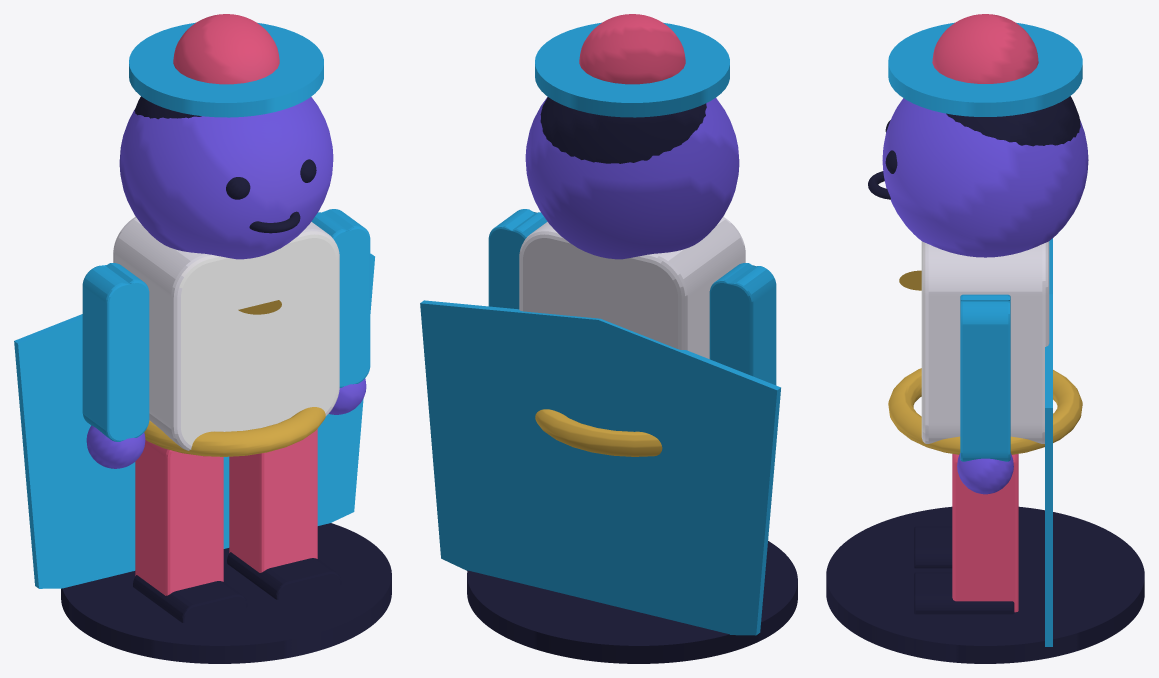
The model's file is 0719_《史记》_淮阴侯韩信.glb.
3 views of the same model, side by side, from view 1: azimuth 30°, elevation 25°; view 2: azimuth 150°, elevation 25°; view 3: azimuth 270°, elevation 25° (orthographic).
Parts seen in each view (by area): view 1: card_0719; view 2: card_0719; view 3: card_0719.
Boxes of the visible parts, x1,y1,x2,y2 form: card_0719: [14, 14, 391, 663]; card_0719: [420, 14, 797, 663]; card_0719: [826, 14, 1144, 663].
Bounding box in the file's own units: 0.635 × 1 × 0.4923.
